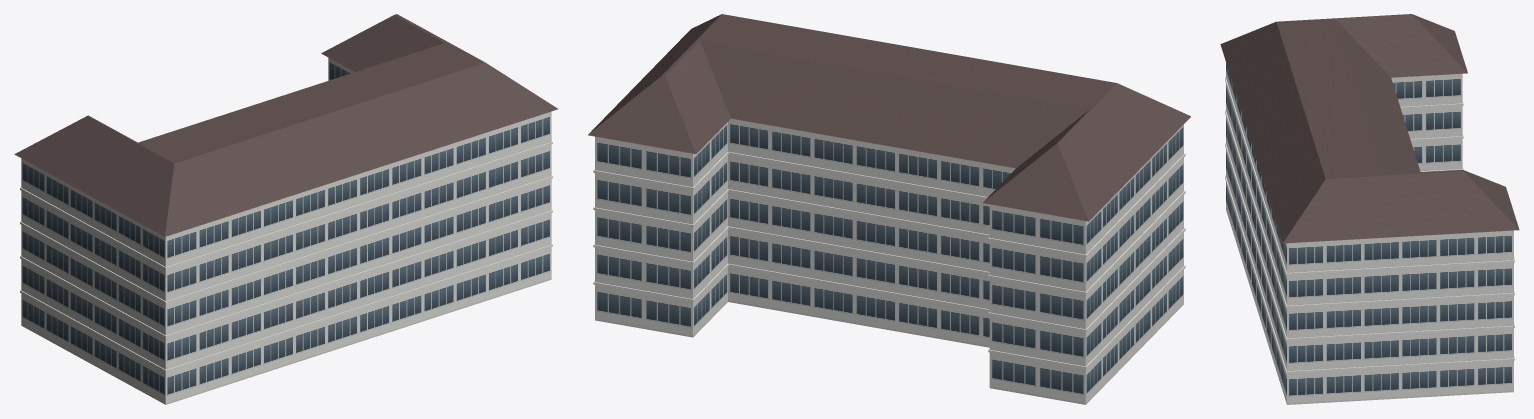
File: dorm_qinyuan_g3.glb
3 renders of one model, left to right at view 1: azimuth 30°, elevation 25°; view 2: azimuth 150°, elevation 25°; view 3: azimuth 270°, elevation 25°, orthographic. The views are drawn at different scales.
Visible parts, largest first — view 1: 1114843836; view 2: 1114843836; view 3: 1114843836.
Boxes of the visible parts, x1,y1,x2,y2 form: 1114843836: [14, 14, 558, 404]; 1114843836: [588, 14, 1190, 404]; 1114843836: [1220, 14, 1519, 404].
Bounding box in the file's own units: 50.36 × 22.6 × 29.96.
Materials: 4 (2 with a texture image).
